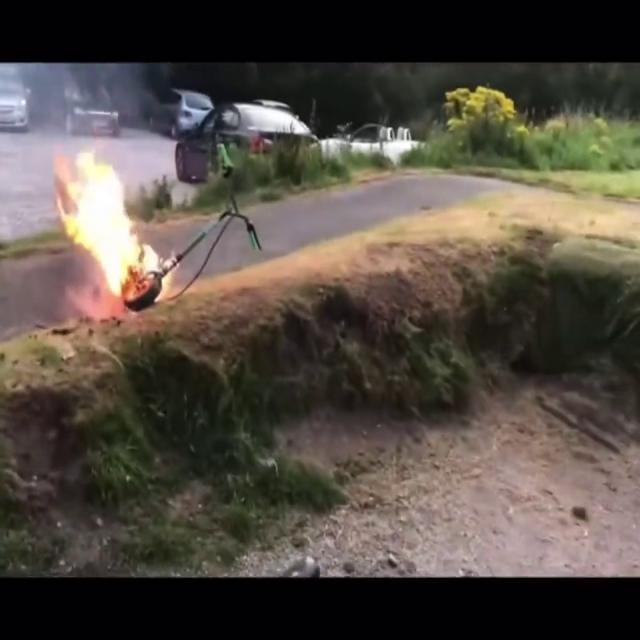Fire: (46, 143, 160, 303)
